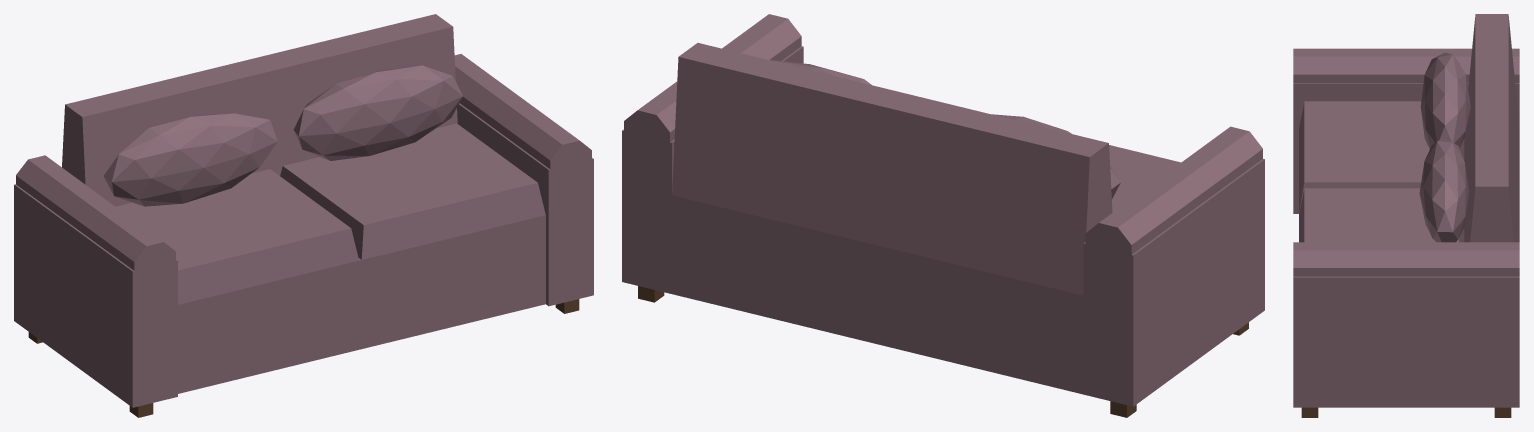
The model's file is sofa.glb.
3 views of the same model, side by side, from view 1: azimuth 30°, elevation 25°; view 2: azimuth 150°, elevation 25°; view 3: azimuth 270°, elevation 25° (orthographic). The views are drawn at different scales.
Visible parts, largest first — view 1: sofa; view 2: sofa; view 3: sofa.
Part boxes in pixels (box(x1,y1,x2,y2)): sofa: box(14, 14, 593, 417); sofa: box(622, 14, 1264, 417); sofa: box(1293, 14, 1519, 417).
Bounding box in the file's own units: 1.84 × 0.86 × 0.82.
